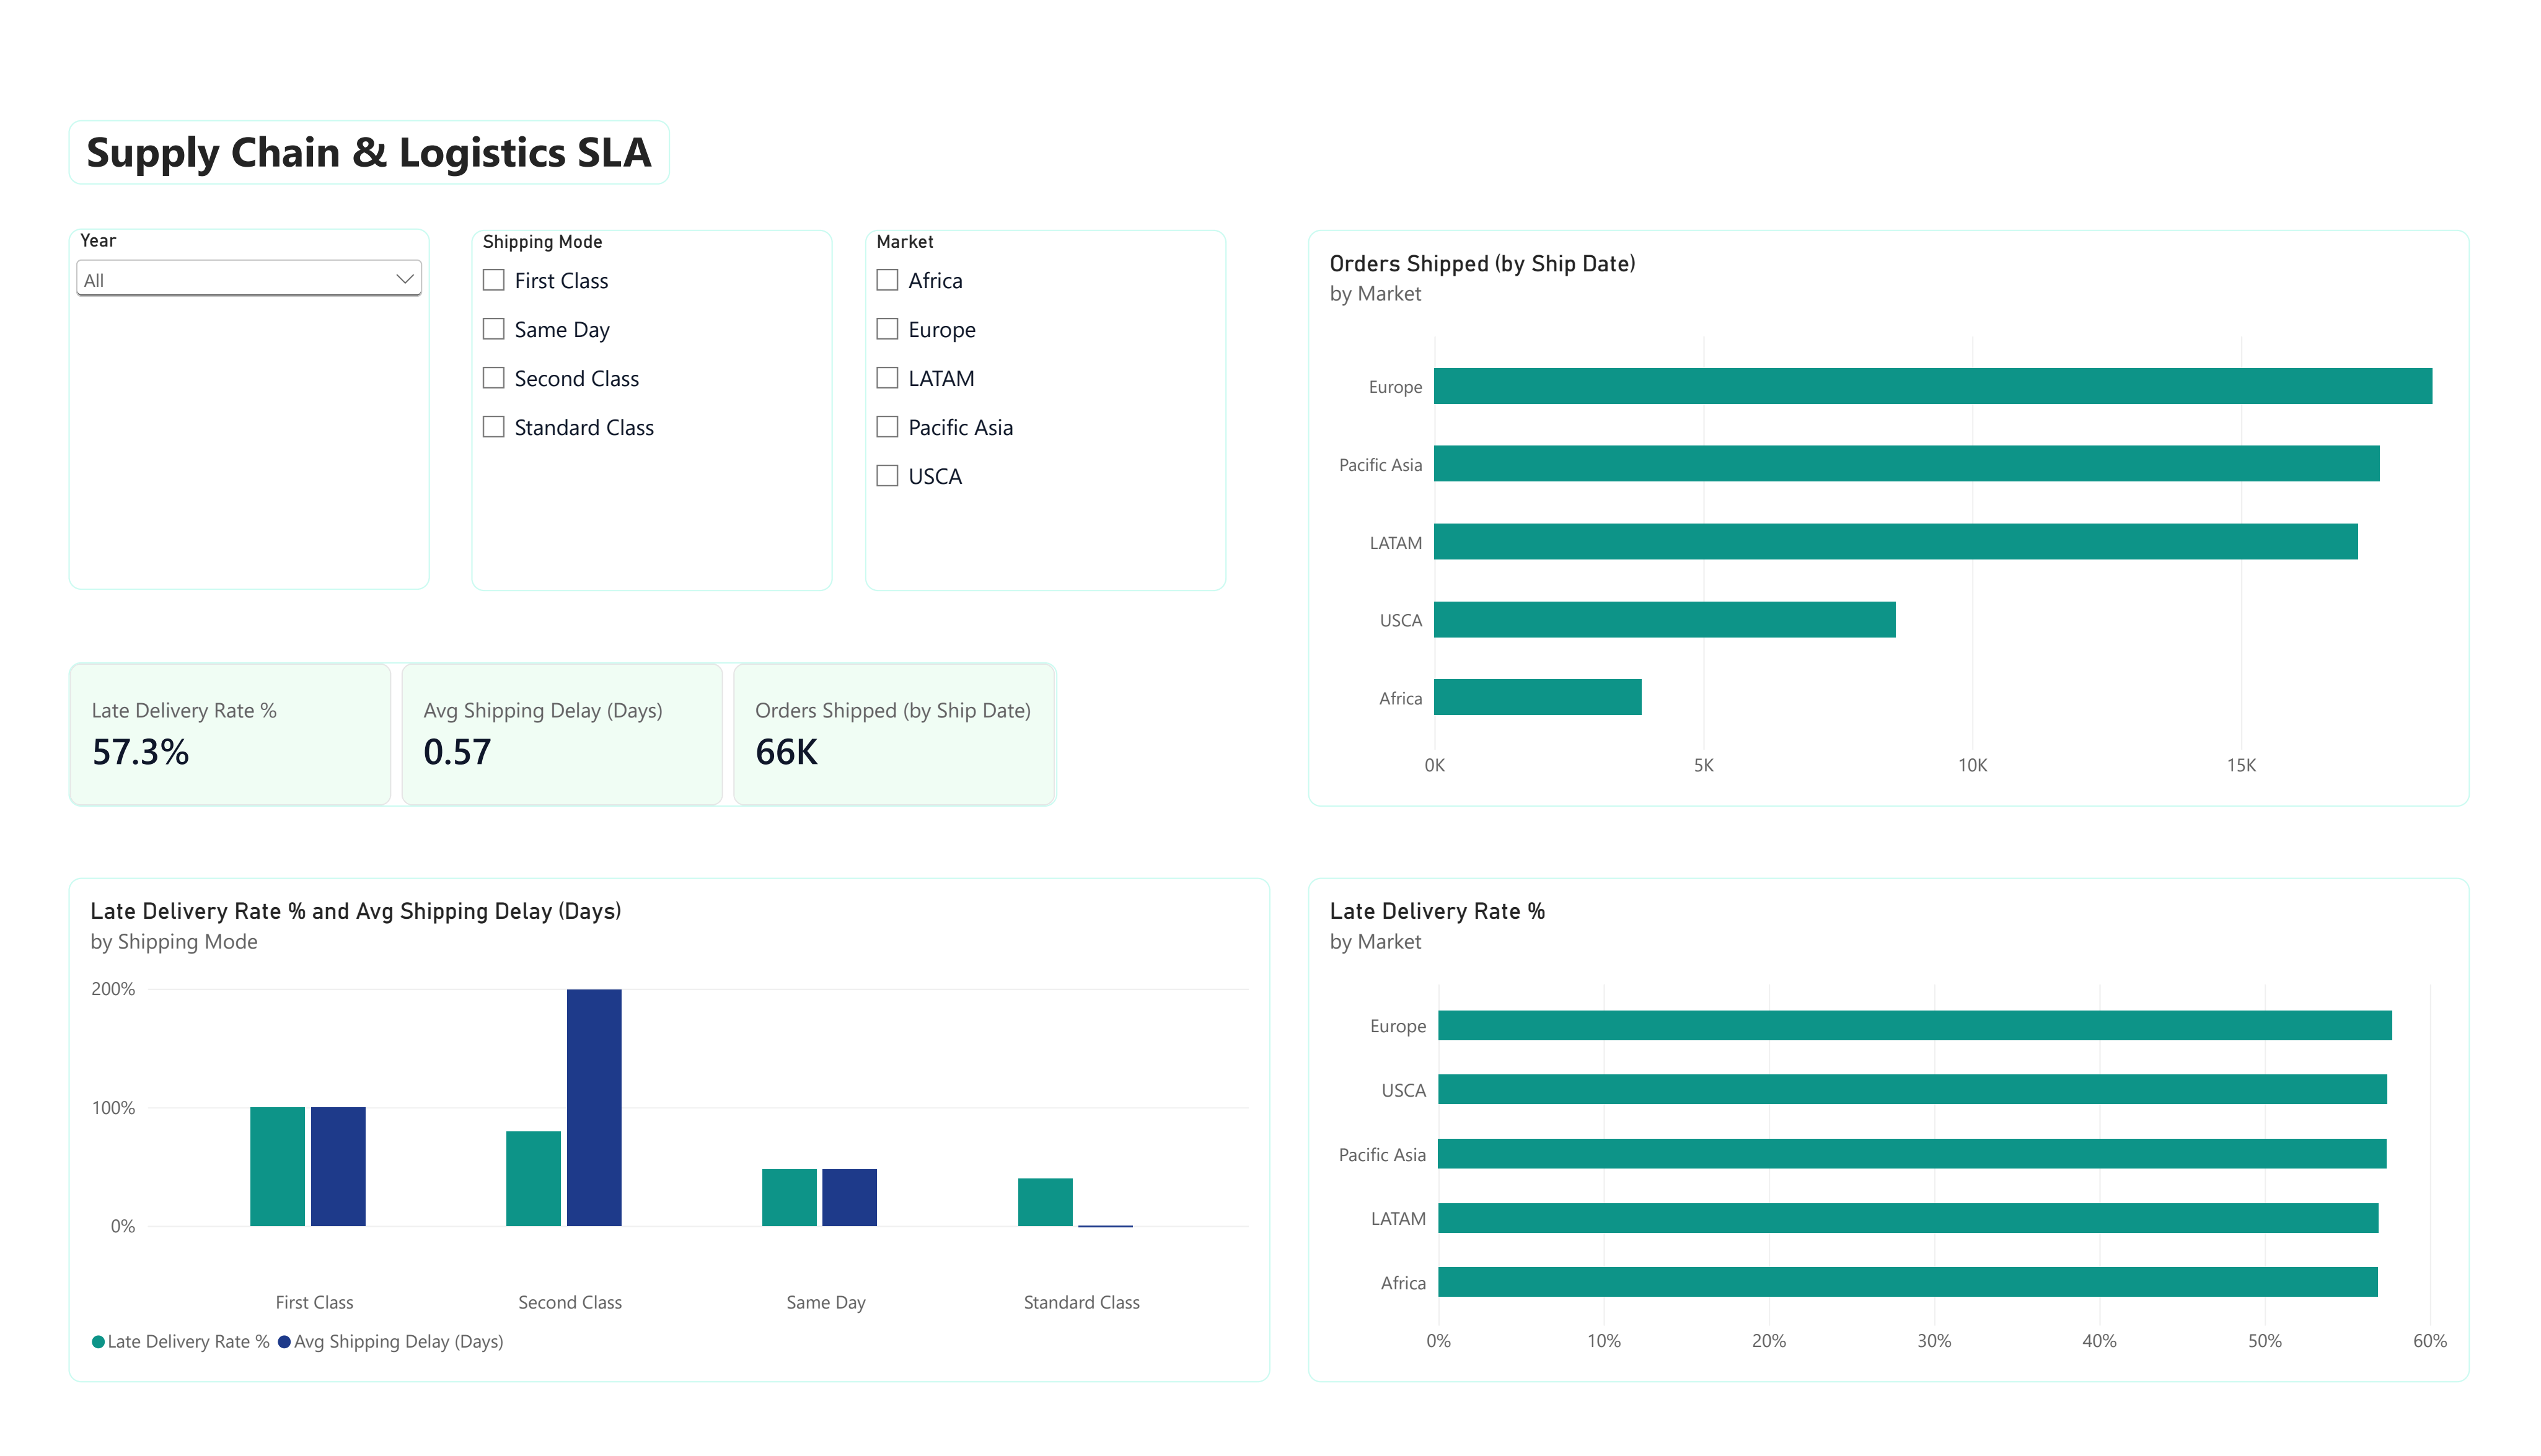

The page's visual inventory and layout, read from the dashboard file:
{"tool":"powerbi","page":{"name":"Supply Chain & Logistics SLA","canvas":[1920,1080],"ordinal":2},"visuals":[{"type":"slicer","fields":{"Values":["Dim_Date.Year"]},"box":[28.7,153.3,280,280],"z":0},{"type":"slicer","fields":{"Values":["Fact_Orders.Shipping Mode"]},"box":[340.8,153.7,280,280],"z":1000},{"type":"slicer","fields":{"Values":["Dim_Geography.Market"]},"box":[646.2,153.8,280,280],"z":2000},{"type":"cardVisual","fields":{"Data":["_Measures.Late Delivery Rate %","_Measures.Avg Shipping Delay (Days)","_Measures.Orders Shipped (by Ship Date)"]},"box":[28.8,488.8,766.2,112.5],"z":3000},{"type":"clusteredColumnChart","fields":{"Category":["Fact_Orders.Shipping Mode"],"Y":["_Measures.Late Delivery Rate %","_Measures.Avg Shipping Delay (Days)"]},"box":[28.8,655.7,931.4,391.4],"z":4000},{"type":"clusteredBarChart","fields":{"Category":["Dim_Geography.Market"],"Y":["_Measures.Late Delivery Rate %"]},"box":[988.8,655.7,900,391.4],"z":5000},{"type":"textbox","box":[28.8,68.8,466.2,50],"z":6000},{"type":"clusteredBarChart","fields":{"Category":["Dim_Geography.Market"],"Y":["_Measures.Orders Shipped (by Ship Date)"]},"box":[988.8,153.8,900,447.5],"z":7000}]}

Visuals, with their boxes on the page's 1920x1080 design canvas (x1, y1, x2, y2). These are canvas units, not pixel positions in the 2541x1456 screenshot, which may show the page scaled, cropped or inside an application window:
slicer - Dim_Date.Year: (left=29, top=153, right=309, bottom=433)
slicer - Fact_Orders.Shipping Mode: (left=341, top=154, right=621, bottom=434)
slicer - Dim_Geography.Market: (left=646, top=154, right=926, bottom=434)
cardVisual - _Measures.Late Delivery Rate % x _Measures.Avg Shipping Delay (Days): (left=29, top=489, right=795, bottom=601)
clusteredColumnChart - Fact_Orders.Shipping Mode x _Measures.Late Delivery Rate %: (left=29, top=656, right=960, bottom=1047)
clusteredBarChart - Dim_Geography.Market x _Measures.Late Delivery Rate %: (left=989, top=656, right=1889, bottom=1047)
textbox: (left=29, top=69, right=495, bottom=119)
clusteredBarChart - Dim_Geography.Market x _Measures.Orders Shipped (by Ship Date): (left=989, top=154, right=1889, bottom=601)
